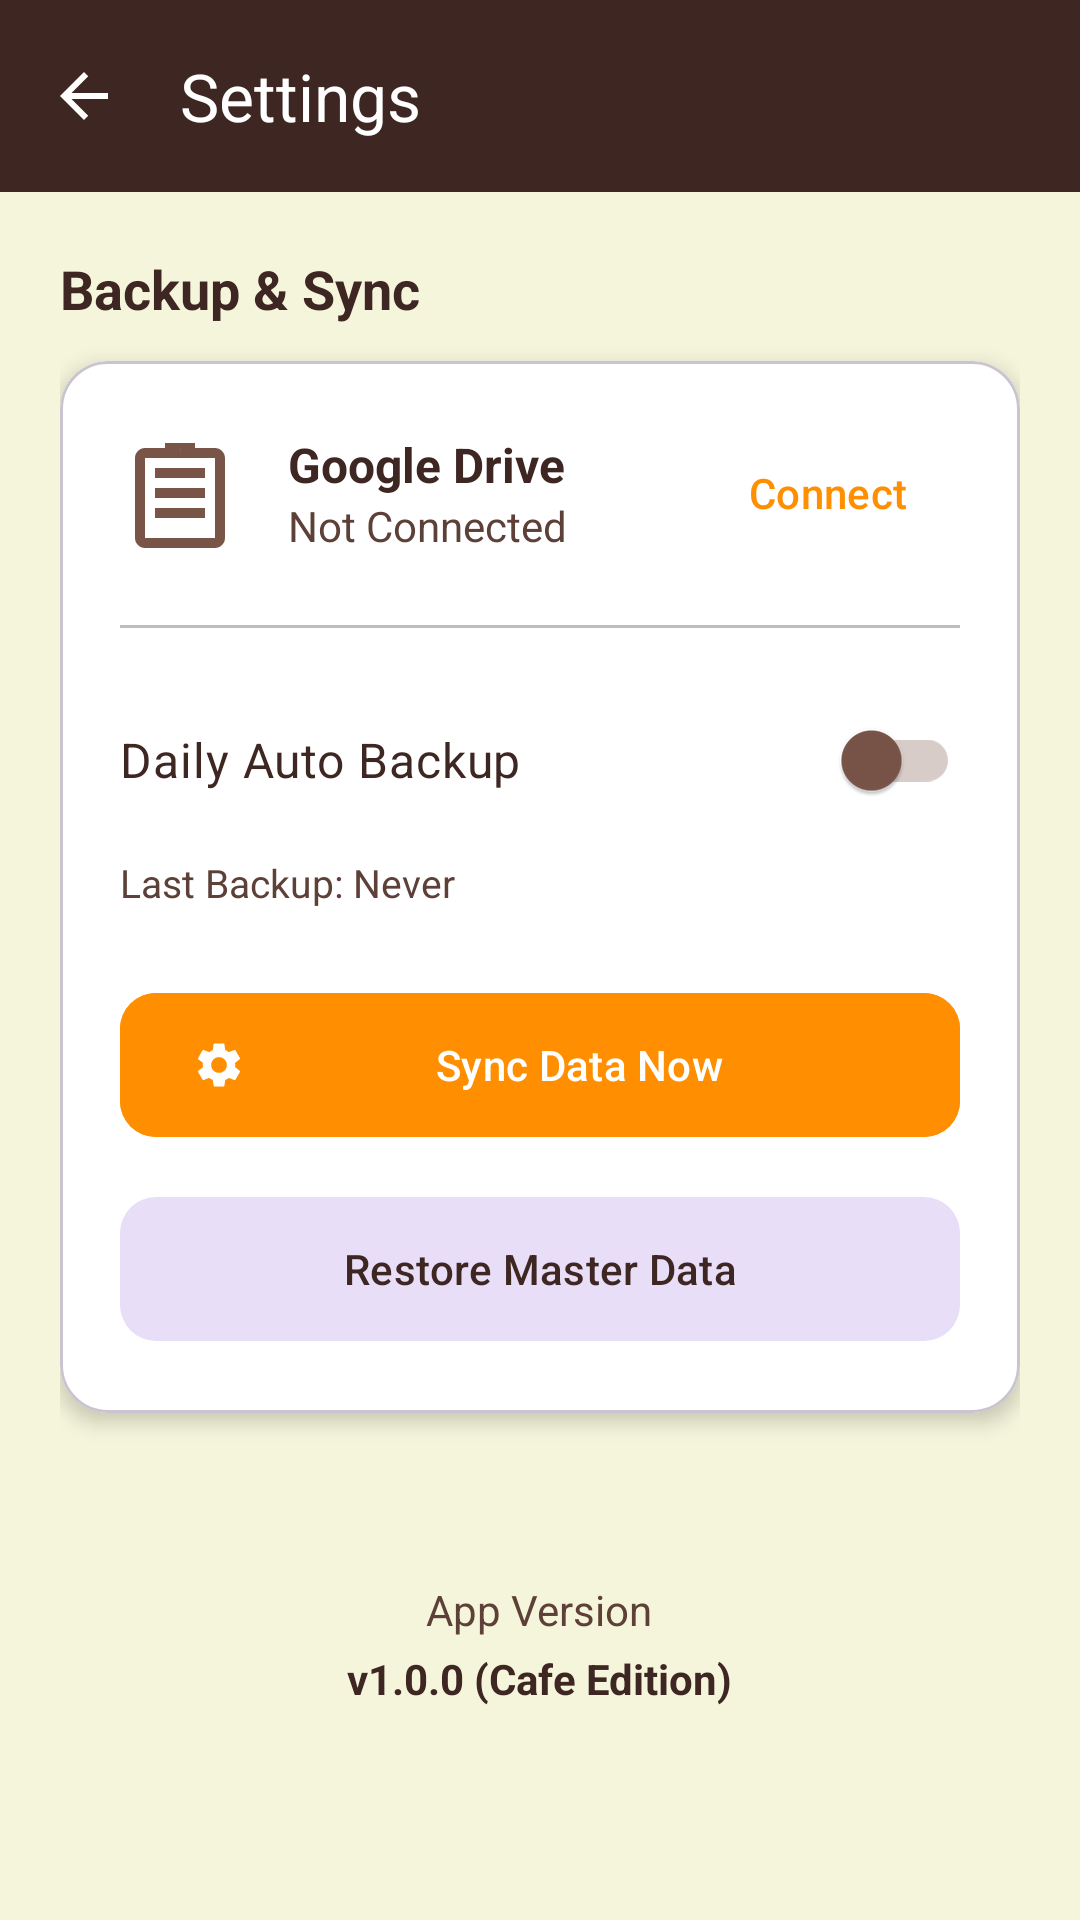

Screen size 1080 x 1920. Icon name, then its center in pixels as (x,y):
inventory: (180,495)
